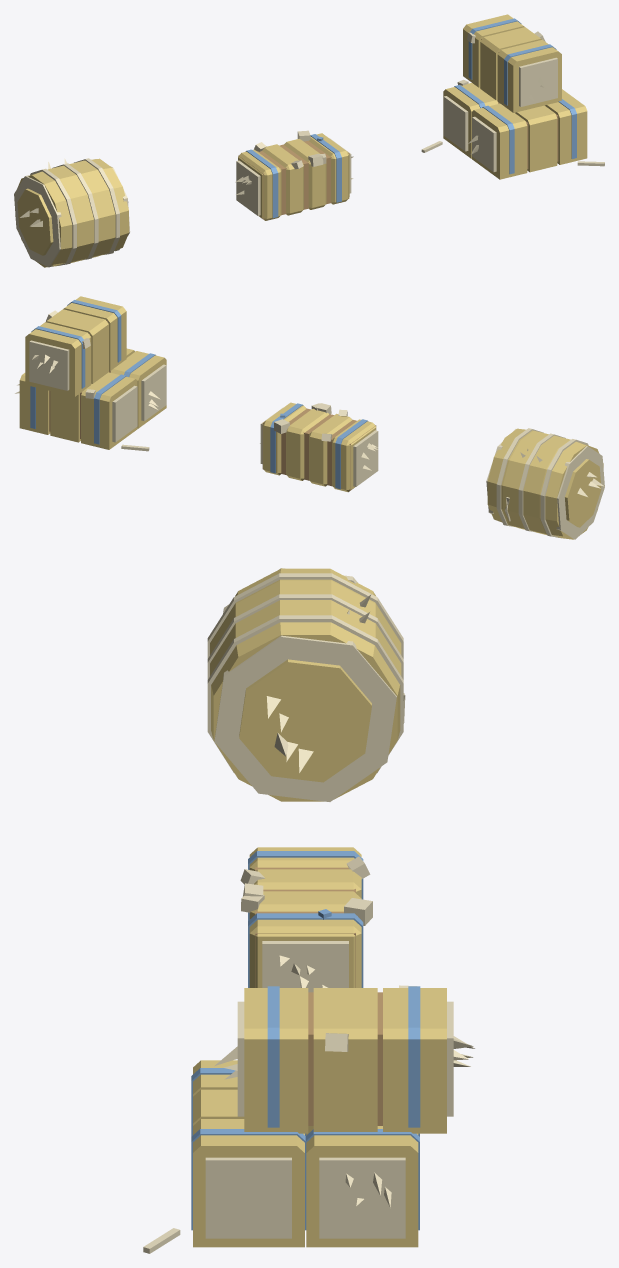
The model's file is HayBale.fbx.
3 renders of one model, top to bottom at view 1: azimuth 30°, elevation 25°; view 2: azimuth 150°, elevation 25°; view 3: azimuth 270°, elevation 25°, orthographic. The views are drawn at different scales.
Parts seen in each view (by area): view 1: HayBale.C_Body, HayBale.A_Drum, HayBale.B_Body, HayBale.C_Straw, HayBale.A_Straw, HayBale.C_Twine, HayBale.B_Straw, HayBale.B_Core, HayBale.B_Twine; view 2: HayBale.C_Body, HayBale.A_Drum, HayBale.B_Body, HayBale.C_Straw, HayBale.A_Straw, HayBale.C_Twine, HayBale.B_Straw, HayBale.B_Core, HayBale.B_Twine; view 3: HayBale.C_Body, HayBale.A_Drum, HayBale.C_Straw, HayBale.A_Straw, HayBale.B_Body, HayBale.C_Twine, HayBale.B_Straw, HayBale.B_Twine, HayBale.C_Core, HayBale.B_Core.
Part boxes in pixels (bbox=[...]): HayBale.C_Body: bbox=[443, 14, 587, 179]; HayBale.A_Drum: bbox=[15, 158, 128, 267]; HayBale.B_Body: bbox=[238, 133, 349, 220]; HayBale.C_Straw: bbox=[421, 31, 604, 172]; HayBale.A_Straw: bbox=[14, 158, 130, 267]; HayBale.C_Twine: bbox=[454, 18, 576, 174]; HayBale.B_Straw: bbox=[235, 130, 353, 215]; HayBale.B_Core: bbox=[238, 141, 349, 219]; HayBale.B_Twine: bbox=[245, 134, 341, 218]; HayBale.C_Body: bbox=[19, 296, 166, 449]; HayBale.A_Drum: bbox=[487, 428, 603, 539]; HayBale.B_Body: bbox=[263, 402, 376, 492]; HayBale.C_Straw: bbox=[15, 310, 166, 451]; HayBale.A_Straw: bbox=[486, 428, 604, 539]; HayBale.C_Twine: bbox=[30, 300, 155, 444]; HayBale.B_Straw: bbox=[260, 403, 378, 486]; HayBale.B_Core: bbox=[262, 408, 376, 490]; HayBale.B_Twine: bbox=[270, 403, 368, 489]; HayBale.C_Body: bbox=[193, 988, 446, 1247]; HayBale.A_Drum: bbox=[210, 568, 401, 801]; HayBale.C_Straw: bbox=[143, 985, 474, 1253]; HayBale.A_Straw: bbox=[207, 568, 405, 801]; HayBale.B_Body: bbox=[249, 847, 361, 987]; HayBale.C_Twine: bbox=[191, 986, 420, 1230]; HayBale.B_Straw: bbox=[240, 856, 372, 992]; HayBale.B_Twine: bbox=[248, 851, 363, 987]; HayBale.C_Core: bbox=[308, 992, 382, 1125]; HayBale.B_Core: bbox=[255, 867, 355, 987].
Bounding box in the file's own units: 15.89 × 2.82 × 4.16.
